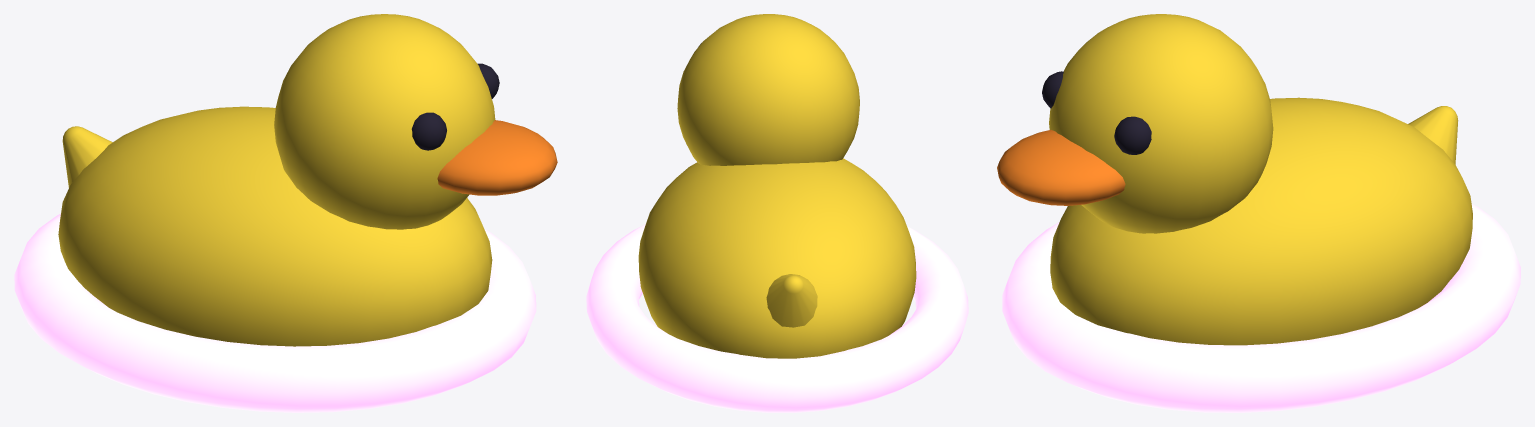
File: RubberDuck.fbx
The picture shows the model from 3 angles, left to right: view 1: azimuth 30°, elevation 25°; view 2: azimuth 150°, elevation 25°; view 3: azimuth 270°, elevation 25°; orthographic projection. The views are drawn at different scales.
Visible parts, largest first — view 1: RubberDuck_Body, RubberDuck_Neon, RubberDuck_Trim, RubberDuck_Eyes; view 2: RubberDuck_Body, RubberDuck_Neon; view 3: RubberDuck_Body, RubberDuck_Neon, RubberDuck_Trim, RubberDuck_Eyes.
Boxes of the visible parts, bbox=[...] form: RubberDuck_Body: bbox=[58, 14, 495, 346]; RubberDuck_Neon: bbox=[14, 213, 536, 412]; RubberDuck_Trim: bbox=[437, 120, 557, 195]; RubberDuck_Eyes: bbox=[411, 63, 499, 150]; RubberDuck_Body: bbox=[638, 14, 916, 358]; RubberDuck_Neon: bbox=[586, 224, 968, 412]; RubberDuck_Body: bbox=[1049, 14, 1472, 345]; RubberDuck_Neon: bbox=[1002, 204, 1520, 412]; RubberDuck_Trim: bbox=[997, 130, 1125, 205]; RubberDuck_Eyes: bbox=[1042, 71, 1151, 154].
Bounding box in the file's own units: 2.83 × 2.33 × 3.
